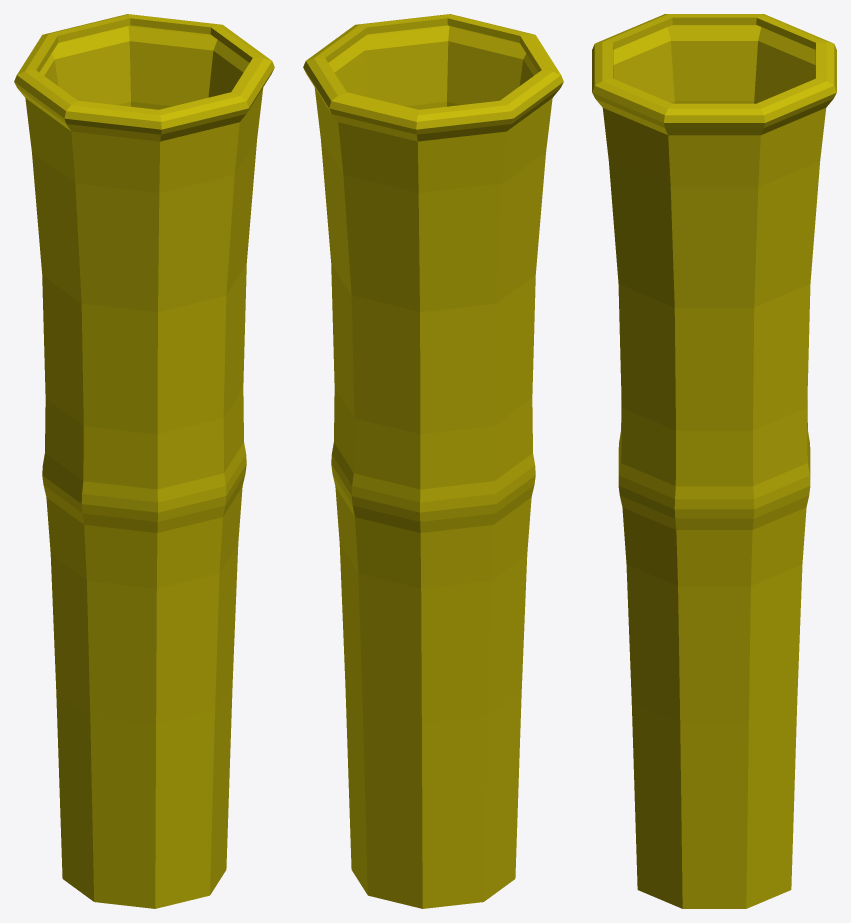
File: ArrowBag_01.fbx
3 renders of one model, left to right at view 1: azimuth 30°, elevation 25°; view 2: azimuth 150°, elevation 25°; view 3: azimuth 270°, elevation 25°, orthographic.
Parts seen in each view (by area): view 1: ArrowBag_01; view 2: ArrowBag_01; view 3: ArrowBag_01.
Boxes of the visible parts, x1,y1,x2,y2 form: ArrowBag_01: (14, 14, 274, 908); ArrowBag_01: (303, 14, 563, 908); ArrowBag_01: (592, 14, 836, 908).
Bounding box in the file's own units: 12.82 × 47.17 × 12.82.
